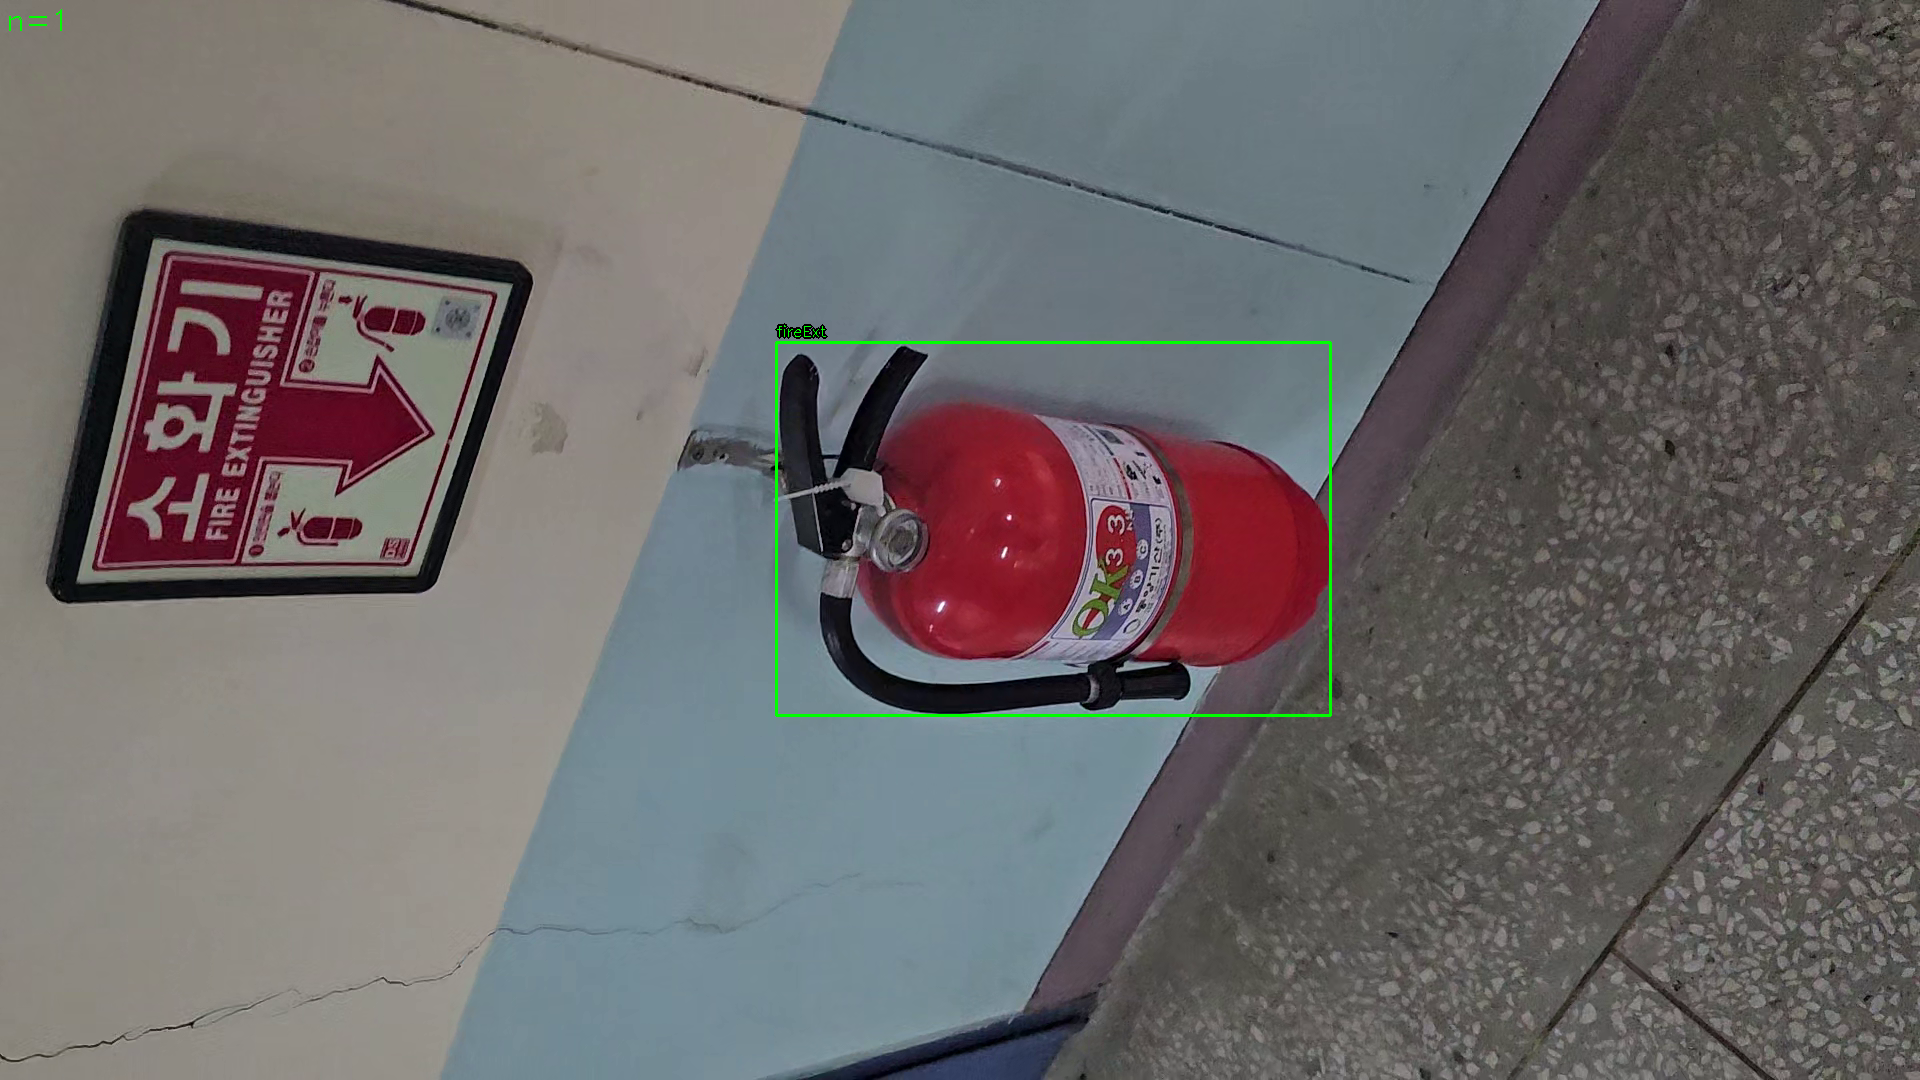lane: (775, 342, 1331, 716)
